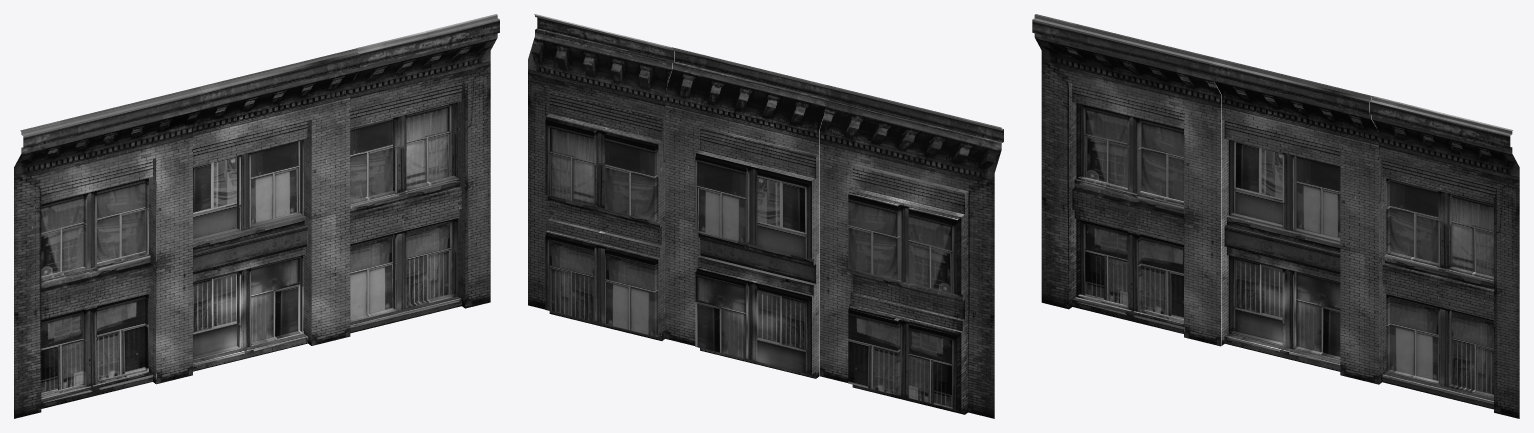
Rendered from chinatown_building_3.fbx.
3 views of the same model, side by side, from view 1: azimuth 30°, elevation 25°; view 2: azimuth 150°, elevation 25°; view 3: azimuth 330°, elevation 25° (orthographic). The views are drawn at different scales.
Visible parts, largest first — view 1: Plane095, Plane093, Plane094; view 2: Plane095, Plane093, Plane094; view 3: Plane095, Plane093, Plane094.
Boxes of the visible parts, x1,y1,x2,y2 form: Plane095: (14,87,202,418); Plane093: (193,48,359,371); Plane094: (350,14,499,333); Plane095: (819,85,1003,418); Plane093: (665,47,828,378); Plane094: (528,14,674,340); Plane095: (1032,14,1220,346); Plane093: (1211,57,1378,384); Plane094: (1369,96,1519,418).
Bounding box in the file's own units: 1337 × 784 × 93.6.
